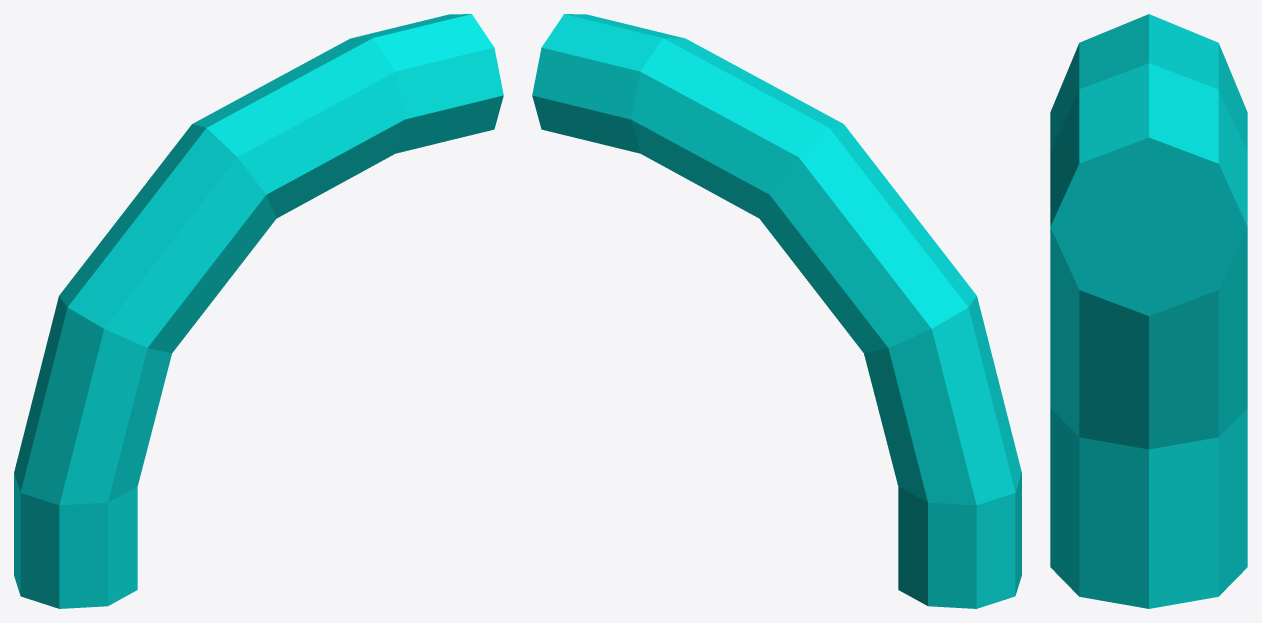
Rendered from pipe_sm_corner.fbx.
The picture shows the model from 3 angles, left to right: view 1: azimuth 30°, elevation 25°; view 2: azimuth 150°, elevation 25°; view 3: azimuth 270°, elevation 25°; orthographic projection. The views are drawn at different scales.
Parts seen in each view (by area): view 1: pipe_sm_corner; view 2: pipe_sm_corner; view 3: pipe_sm_corner.
Part boxes in pixels (x1=…): pipe_sm_corner: x1=14, y1=14, x2=503, y2=608; pipe_sm_corner: x1=532, y1=14, x2=1021, y2=608; pipe_sm_corner: x1=1050, y1=14, x2=1247, y2=608.
Bounding box in the file's own units: 228 × 228 × 56.
